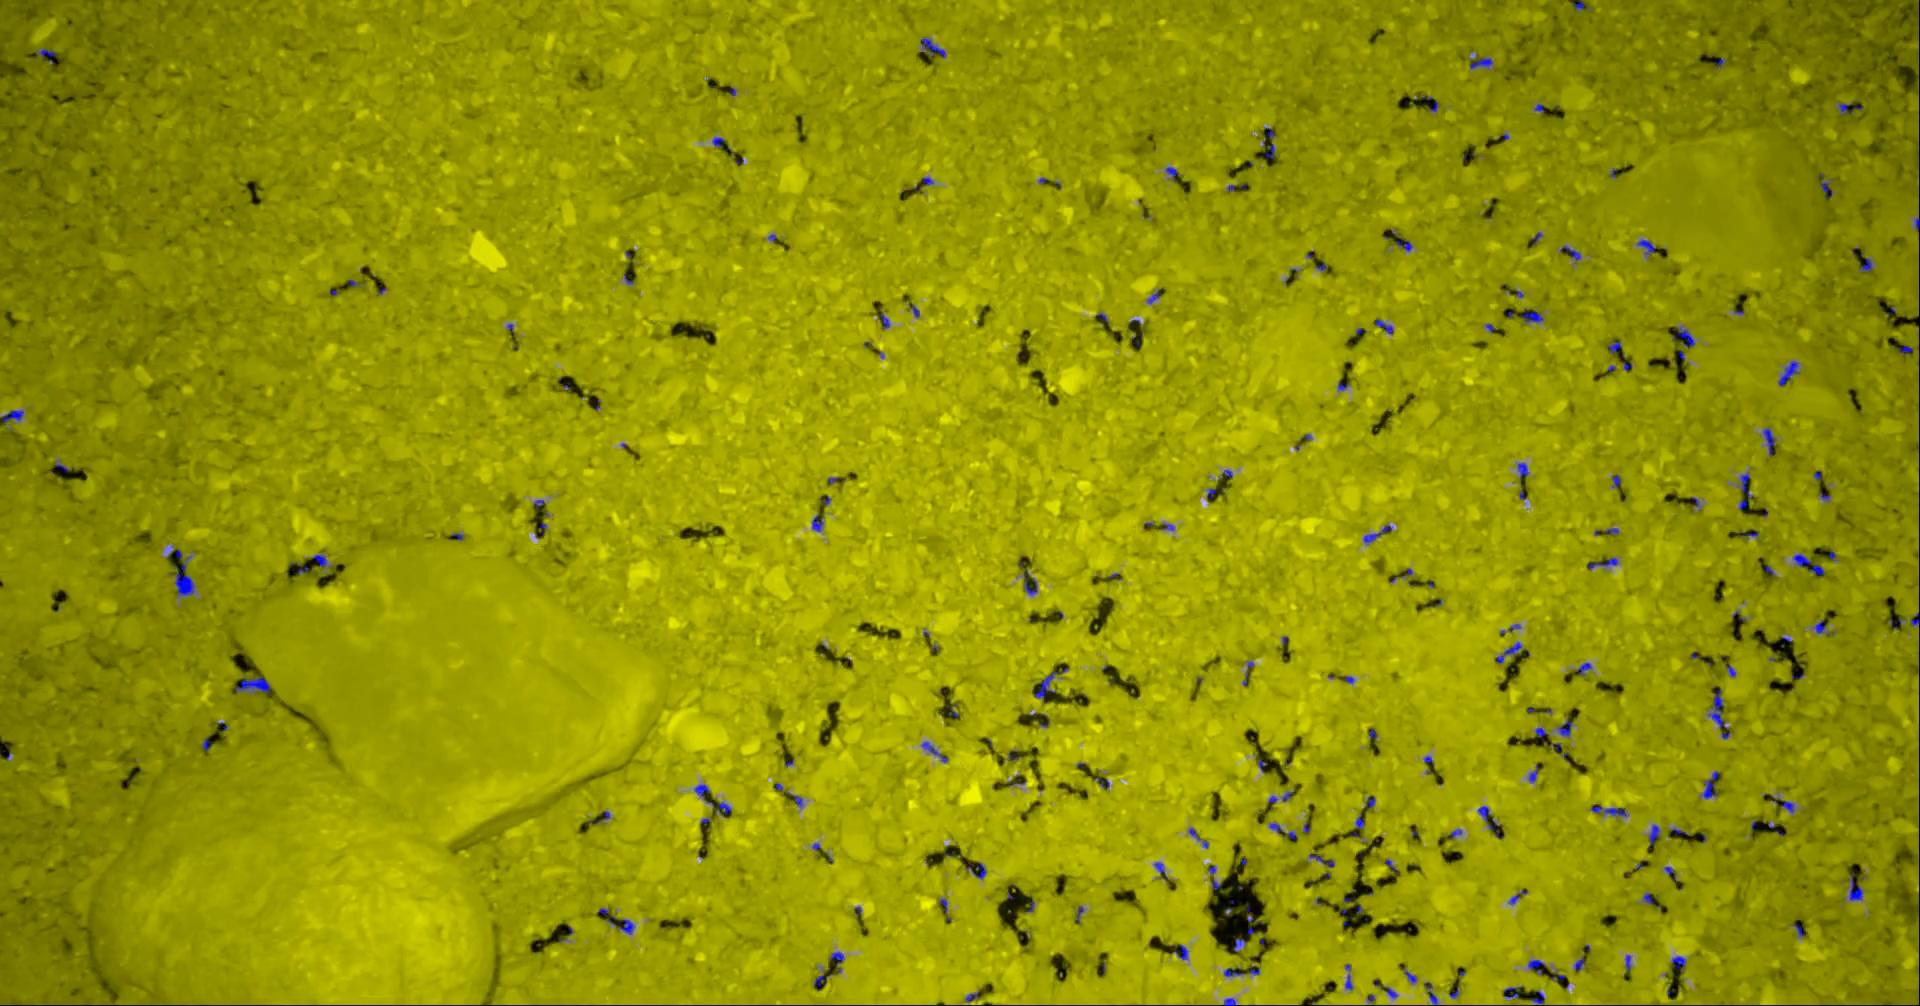ant: (169, 549, 194, 596), (1032, 666, 1068, 699), (1477, 805, 1503, 838), (1792, 553, 1823, 575), (1707, 688, 1724, 727), (235, 676, 270, 694), (1777, 359, 1799, 386), (921, 741, 947, 762), (1363, 525, 1392, 544), (1496, 641, 1521, 663), (919, 37, 945, 57), (1671, 326, 1695, 347), (1269, 823, 1297, 840), (1702, 771, 1718, 798), (693, 784, 712, 807), (1848, 873, 1863, 901), (1590, 805, 1625, 815), (1818, 173, 1832, 198), (1023, 569, 1037, 594), (1587, 558, 1618, 569), (1519, 309, 1543, 323), (1309, 854, 1333, 868), (965, 861, 985, 878), (828, 951, 843, 973), (1763, 427, 1774, 455), (1423, 982, 1437, 1005), (1636, 239, 1655, 255), (1374, 318, 1393, 334), (1559, 245, 1580, 260), (0, 409, 23, 422), (1837, 103, 1862, 114), (38, 47, 55, 64), (1396, 235, 1412, 251), (1557, 718, 1572, 735), (1528, 959, 1545, 974), (1469, 57, 1492, 69), (1172, 944, 1187, 959), (715, 801, 731, 815), (1153, 862, 1167, 879), (617, 920, 634, 934), (1671, 955, 1685, 972), (1530, 989, 1544, 1005), (1575, 662, 1591, 674), (1648, 824, 1658, 845), (811, 513, 823, 531), (1738, 473, 1749, 492), (1223, 967, 1243, 976), (1859, 257, 1872, 271), (312, 554, 326, 567), (1572, 0, 1589, 10), (1608, 340, 1622, 352), (1813, 619, 1825, 633), (1517, 462, 1528, 478), (1502, 987, 1517, 997)
